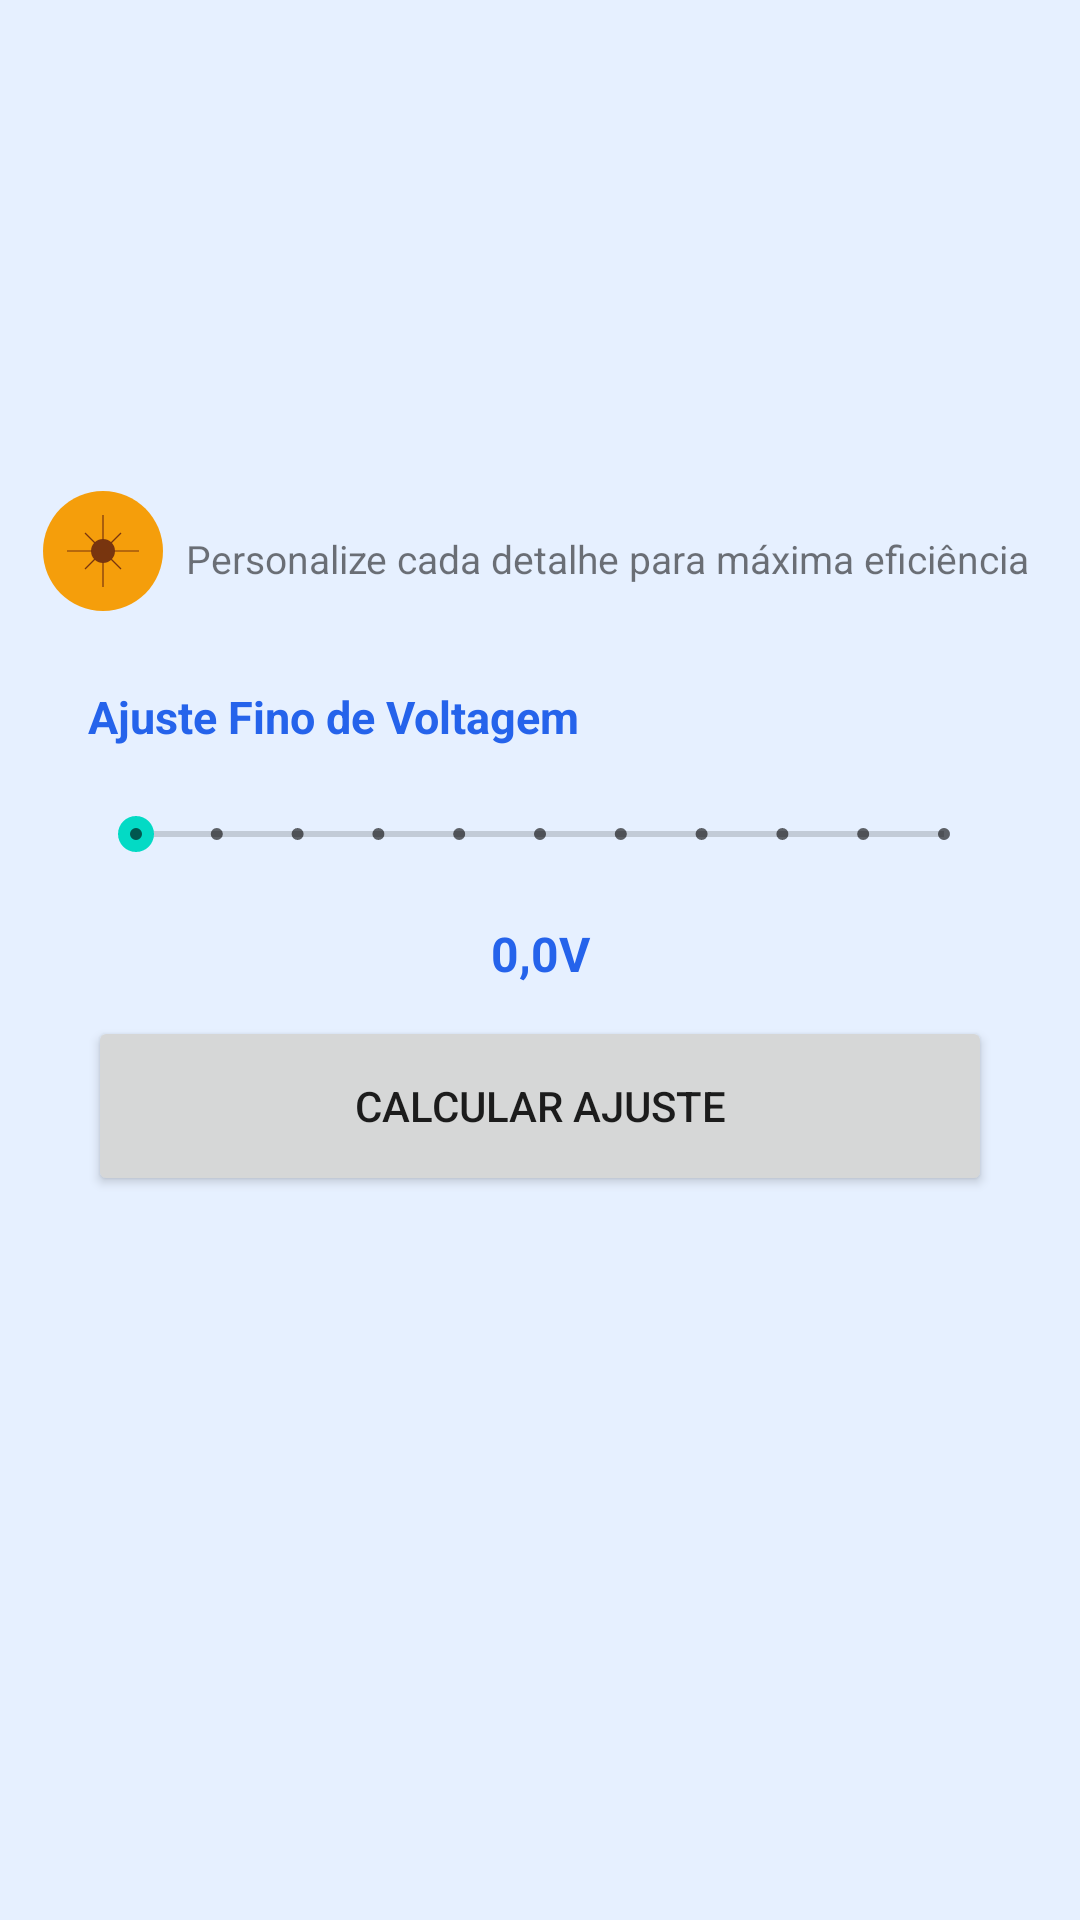

Icon bounding boxes for this 1080x1920 phone screenshot, format BBox(x1, y1, x2, y2):
ajuste ilustração: BBox(43, 491, 163, 611)
